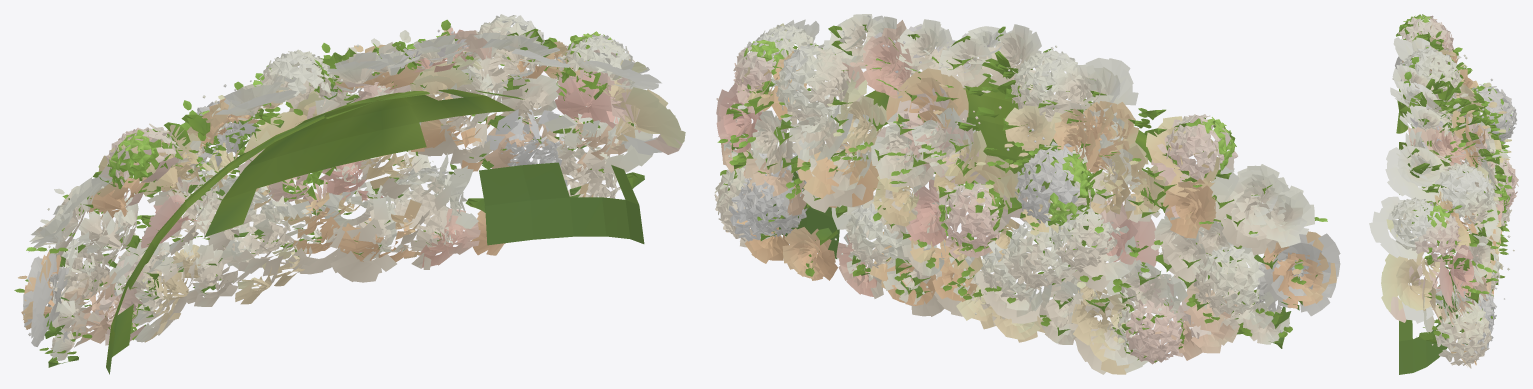
The model's file is vr27n_D_bank_bright_v7.glb.
3 views of the same model, side by side, from view 1: azimuth 30°, elevation 25°; view 2: azimuth 150°, elevation 25°; view 3: azimuth 270°, elevation 25° (orthographic). The views are drawn at different scales.
Parts seen in each view (by area): view 1: petals; view 2: petals; view 3: petals.
Part boxes in pixels (<box>): petals: <box>14,14,685,374</box>; petals: <box>714,14,1340,374</box>; petals: <box>1369,14,1518,374</box>.
Bounding box in the file's own units: 0.0235 × 0.0101 × 0.00602.
